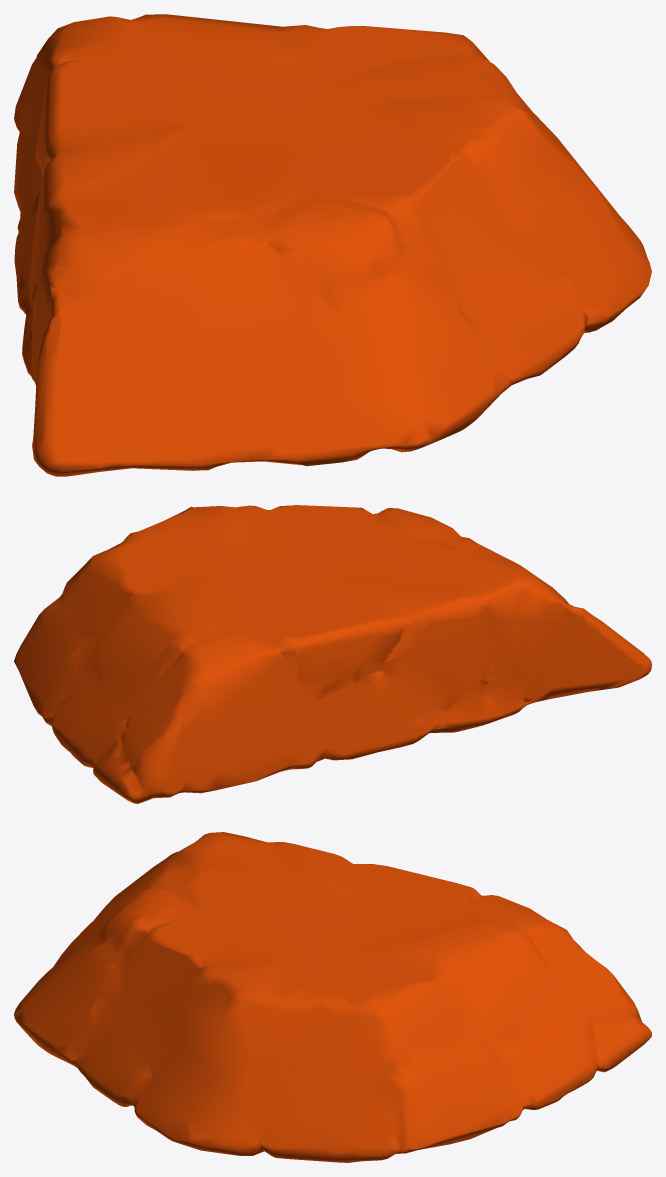
The picture shows the model from 3 angles, top to bottom: view 1: azimuth 30°, elevation 25°; view 2: azimuth 150°, elevation 25°; view 3: azimuth 270°, elevation 25°; orthographic projection. The views are drawn at different scales.
Visible parts, largest first — view 1: Mesh_48_LOD0; view 2: Mesh_48_LOD0; view 3: Mesh_48_LOD0.
Part boxes in pixels (box(x1,y1,x2,y2)): Mesh_48_LOD0: box(14, 14, 651, 476); Mesh_48_LOD0: box(14, 505, 651, 803); Mesh_48_LOD0: box(14, 832, 651, 1162).
Size of what is drawn, in the model's own units: 3873 by 987 by 4237.
